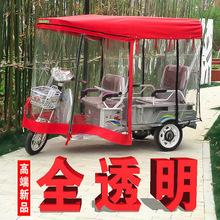tricycle: (24, 13, 201, 151)
